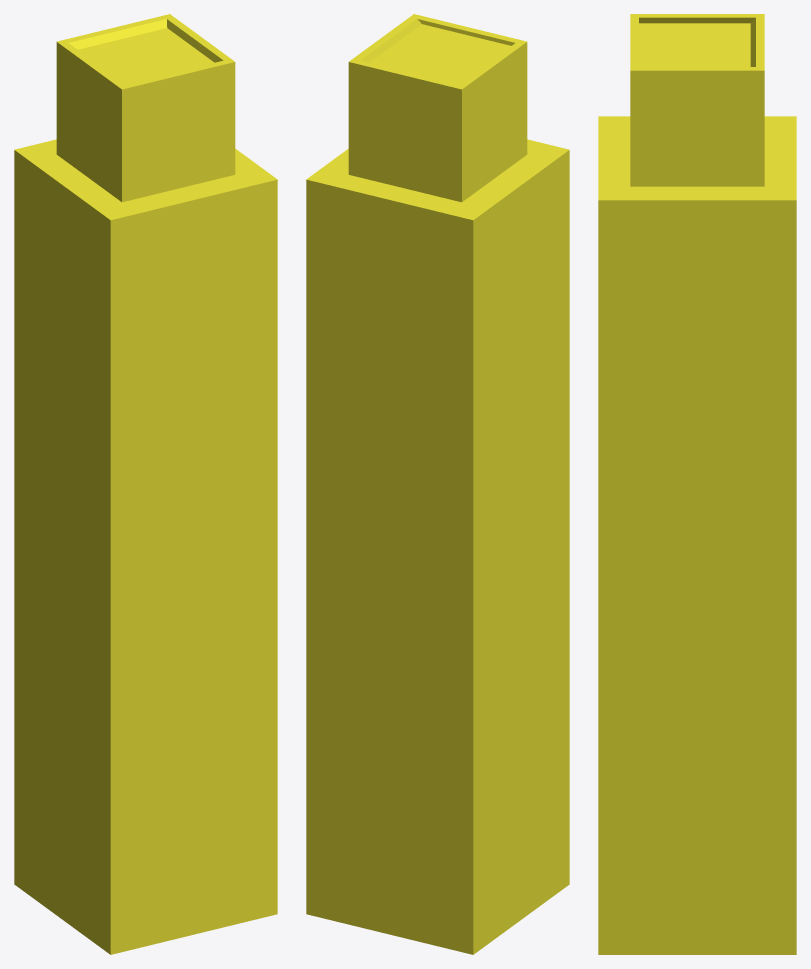
File: Building1_yellow.fbx
The picture shows the model from 3 angles, left to right: view 1: azimuth 30°, elevation 25°; view 2: azimuth 150°, elevation 25°; view 3: azimuth 270°, elevation 25°; orthographic projection. The views are drawn at different scales.
Visible parts, largest first — view 1: Building 1; view 2: Building 1; view 3: Building 1.
Part boxes in pixels (x1,y1,x2,y2): Building 1: [14, 14, 277, 954]; Building 1: [306, 14, 569, 954]; Building 1: [598, 14, 796, 954].
Bounding box in the file's own units: 1001 × 4853 × 1001.
Materials: 1 (1 with a texture image).
